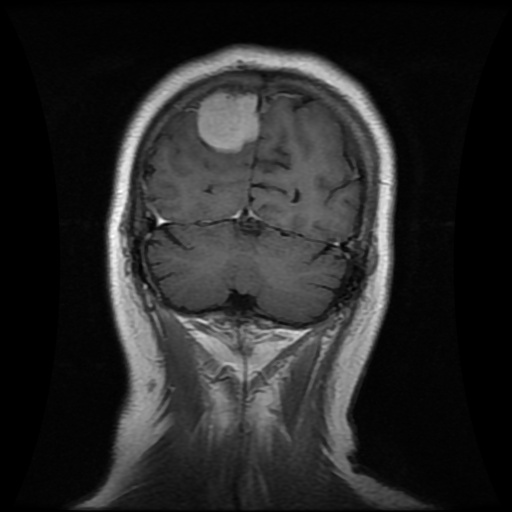meningioma: (197, 90, 259, 152)
